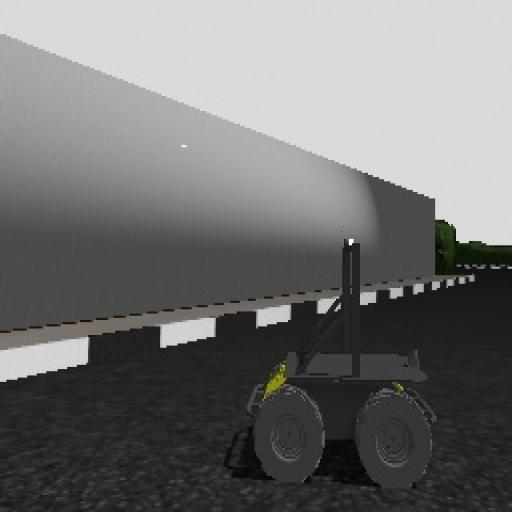huskya200: (222, 193, 460, 492)
